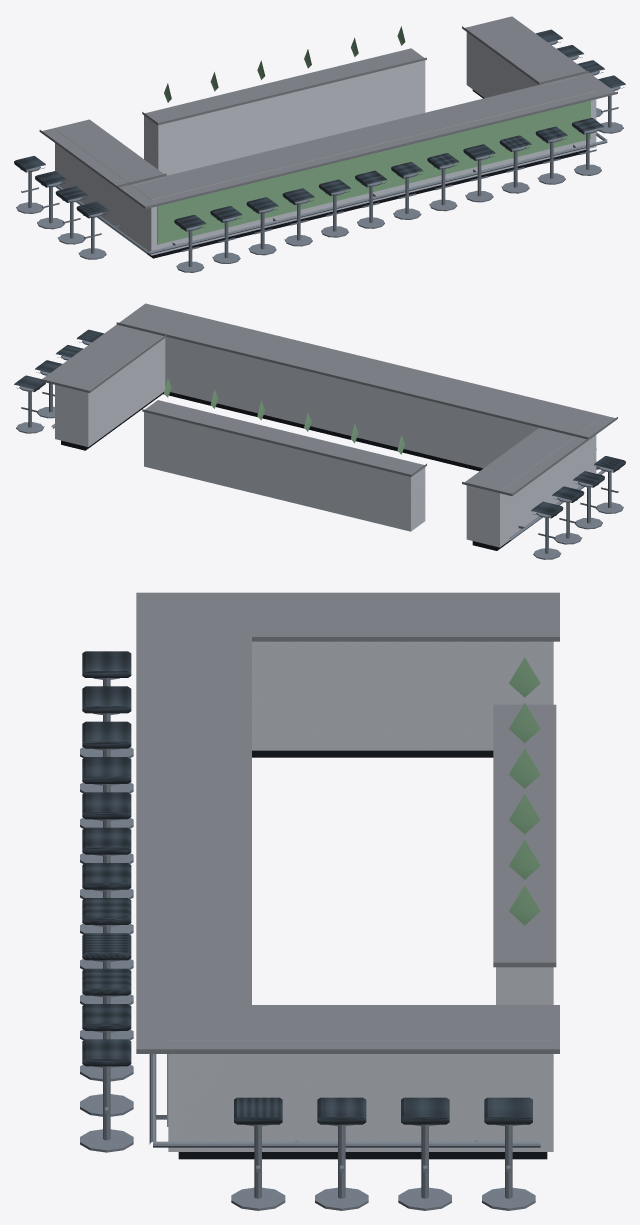
3 views of the same model, one above another, from view 1: azimuth 30°, elevation 25°; view 2: azimuth 150°, elevation 25°; view 3: azimuth 270°, elevation 25° (orthographic). The views are drawn at different scales.
Parts seen in each view (by area): view 1: Counter_Top_Slate, Back_Bar, Counter_Front_Leaf, Counter_Body, Stool_Frame, Stool_Cushions, Back_Bar_Top, Foot_Rail, Counter_Plinth, Leaf_Crests; view 2: Counter_Body, Counter_Top_Slate, Back_Bar, Back_Bar_Top, Stool_Frame, Stool_Cushions, Counter_Plinth, Leaf_Crests; view 3: Counter_Top_Slate, Counter_Body, Stool_Cushions, Stool_Frame, Back_Bar_Top, Counter_Plinth, Leaf_Crests, Foot_Rail, Back_Bar.
Part boxes in pixels (<box>): Counter_Top_Slate: <box>39,16,617,208</box>; Back_Bar: <box>144,60,425,175</box>; Counter_Front_Leaf: <box>157,100,590,244</box>; Counter_Body: <box>55,29,596,255</box>; Stool_Frame: <box>16,40,623,272</box>; Stool_Cushions: <box>14,29,625,231</box>; Back_Bar_Top: <box>142,48,426,125</box>; Foot_Rail: <box>55,132,607,254</box>; Counter_Plinth: <box>147,90,585,258</box>; Leaf_Crests: <box>164,26,405,102</box>; Counter_Body: <box>55,336,596,547</box>; Counter_Top_Slate: <box>39,303,617,495</box>; Back_Bar: <box>144,412,425,531</box>; Back_Bar_Top: <box>142,400,426,476</box>; Stool_Frame: <box>16,340,623,559</box>; Stool_Cushions: <box>14,329,625,518</box>; Counter_Plinth: <box>61,392,510,550</box>; Leaf_Crests: <box>164,378,405,454</box>; Counter_Top_Slate: <box>136,592,559,1053</box>; Counter_Body: <box>168,638,553,1151</box>; Stool_Cushions: <box>82,651,532,1124</box>; Stool_Frame: <box>80,678,535,1210</box>; Back_Bar_Top: <box>493,704,556,967</box>; Counter_Plinth: <box>178,750,547,1159</box>; Leaf_Crests: <box>509,657,540,925</box>; Foot_Rail: <box>149,1054,540,1147</box>; Back_Bar: <box>496,967,553,1004</box>.
Size of what is drawn, in the model's own units: 9.74 by 1.51 by 3.74.
6 materials, 4 textured.
